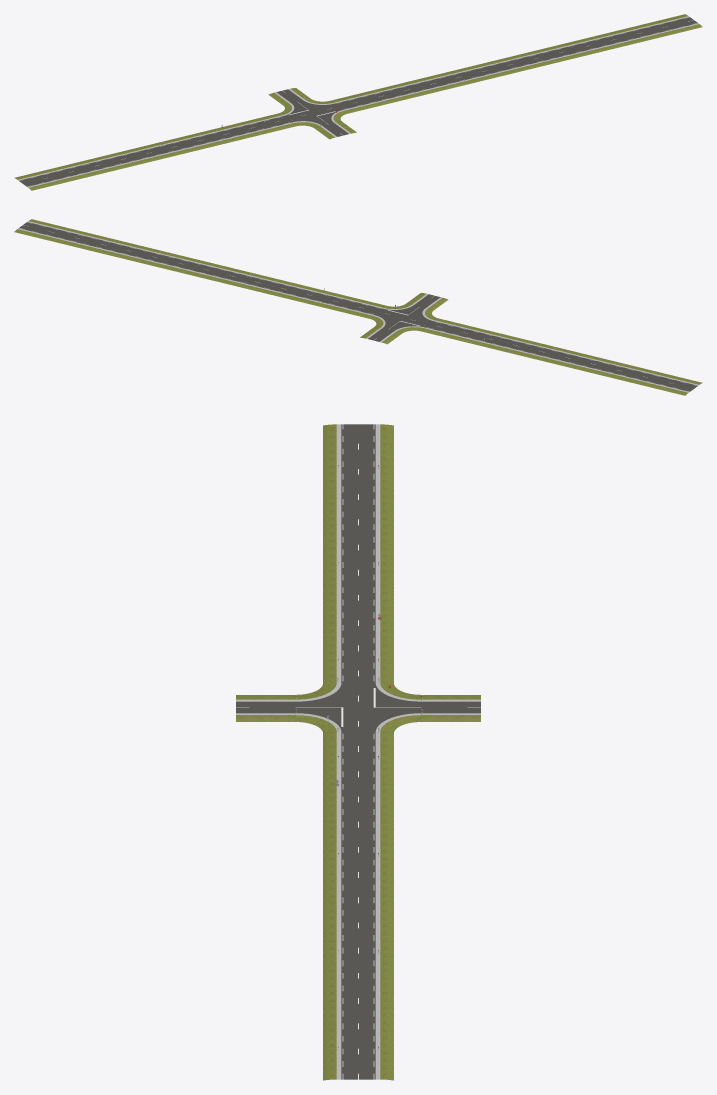
3 renders of one model, top to bottom at view 1: azimuth 30°, elevation 25°; view 2: azimuth 150°, elevation 25°; view 3: azimuth 270°, elevation 25°, orthographic. The views are drawn at different scales.
Parts seen in each view (by area): view 1: SketchUp (×9); view 2: SketchUp (×9); view 3: SketchUp (×9).
Part boxes in pixels (x1,y1,x2,y2): SketchUp (×9): (14,14,702,190); SketchUp (×9): (14,219,702,395); SketchUp (×9): (236,424,480,1080).
Size of the model in its own units: 13307 by 2104 by 112.
